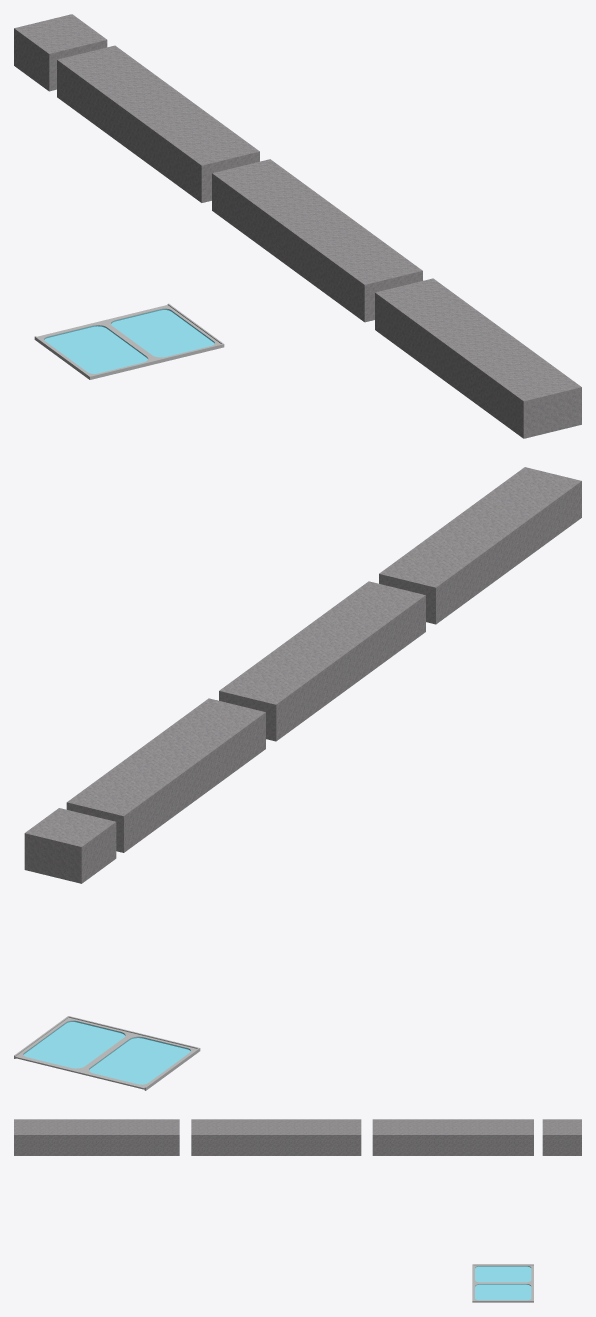
The picture shows the model from 3 angles, top to bottom: view 1: azimuth 30°, elevation 25°; view 2: azimuth 150°, elevation 25°; view 3: azimuth 270°, elevation 25°; orthographic projection. The views are drawn at different scales.
Parts seen in each view (by area): view 1: 0_3_1_1_1_2_1; view 2: 0_3_1_1_1_2_1; view 3: 0_3_1_1_1_2_1.
Boxes of the visible parts, x1,y1,x2,y2 form: 0_3_1_1_1_2_1: [14, 14, 581, 438]; 0_3_1_1_1_2_1: [14, 467, 581, 1090]; 0_3_1_1_1_2_1: [14, 1119, 581, 1302].
Bounding box in the file's own units: 3 × 5.85 × 19.71.
5 materials, 3 textured.
